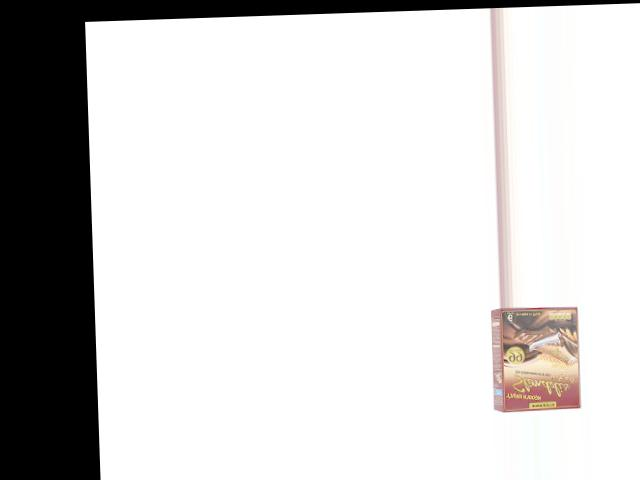chocolate: (485, 304, 590, 414)
